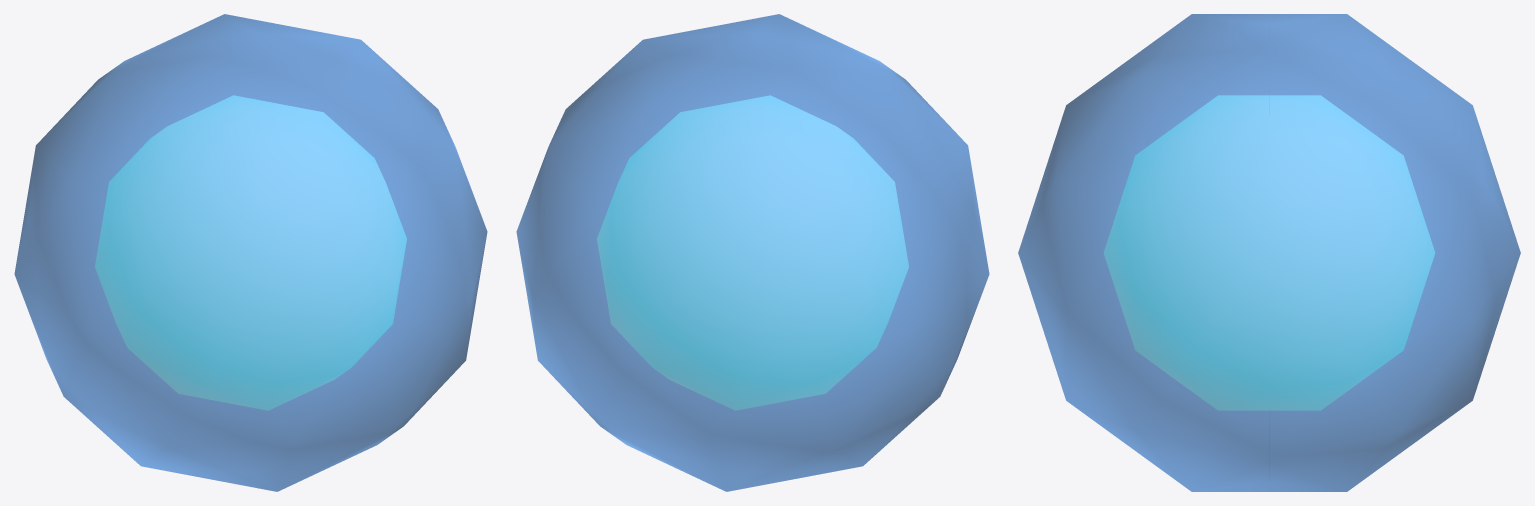
File: SM_CrystalCapsule.fbx
The picture shows the model from 3 angles, left to right: view 1: azimuth 30°, elevation 25°; view 2: azimuth 150°, elevation 25°; view 3: azimuth 270°, elevation 25°; orthographic projection. The views are drawn at different scales.
Parts seen in each view (by area): view 1: SM_CrystalCapsule; view 2: SM_CrystalCapsule; view 3: SM_CrystalCapsule.
Boxes of the visible parts, x1,y1,x2,y2 form: SM_CrystalCapsule: [14, 14, 487, 491]; SM_CrystalCapsule: [516, 14, 989, 491]; SM_CrystalCapsule: [1018, 14, 1520, 491].
Size of the model in its own units: 1.9 by 2 by 2.
